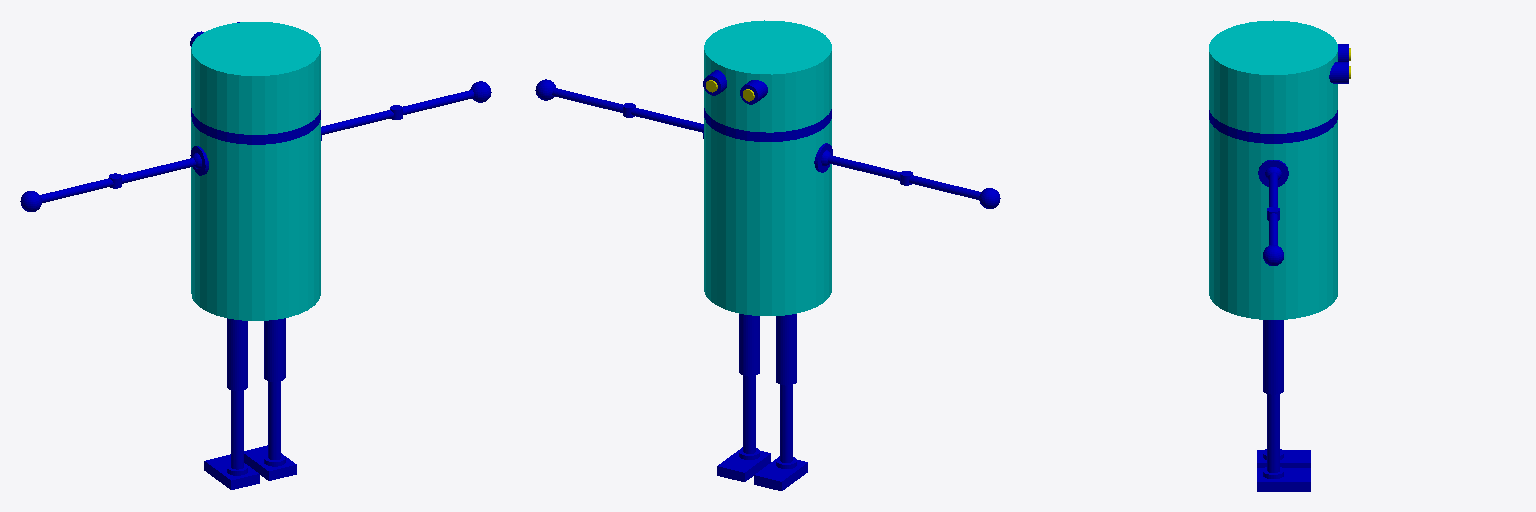
URDF robot description (tom):
<?xml version="1.0"?>
<robot name="tom">

    <material name="red">
        <color rgba="0.8 0 0 1"/>
    </material>

    <material name="green">
        <color rgba="0 0.8 0 1"/>
    </material>

    <material name="blue">
        <color rgba="0 0 0.8 1"/>
    </material>

    <material name="cyan">
        <color rgba="0 0.8 0.8 1"/>
    </material>

    <material name="yellow">
        <color rgba="0.8 0.8 0 1"/>
    </material>

    <link name="base_link">
        <visual>
        <origin rpy="0 0 0" xyz="0 0 0"/>
        <geometry>
            <box size="0.01 0.01 0.01"/>
        </geometry>
        <material name="red"/>
        </visual>
    </link>

<!--Torso, Head and Eyes parts-->

    <link name="torso_link">
        <visual>
            <origin rpy="0 0 0" xyz="0 0 0"/>
            <geometry>
                <cylinder radius="0.03" length="0.09"/>
            </geometry>
            <material name="cyan"/>
        </visual>
    </link>

    <joint name="fixed_joint" type="fixed">
        <parent link="base_link"/>
        <child link="torso_link"/>
        <origin xyz="0 0 0" rpy="0 0 0"/>
    </joint>

    <link name="head_base_link">
        <visual>
            <origin rpy="0 0 0" xyz="0 0 0"/>
            <geometry>
                <cylinder radius="0.03" length="0.005"/>
            </geometry>
            <material name="blue"/>
        </visual>
    </link>

    <joint name="head_base_joint" type="fixed">
        <parent link="torso_link"/>
        <child link="head_base_link"/>
        <origin xyz="0 0 0.0475" rpy="0 0 0"/>
    </joint>

    <link name="head_link">
        <visual>
            <origin rpy="0 0 0" xyz="0 0 0"/>
            <geometry>
                <cylinder radius="0.03" length="0.03"/>
            </geometry>
            <material name="cyan"/>
        </visual>
    </link>

    <joint name="head_joint" type="continuous">
        <parent link="head_base_link"/>
        <child link="head_link"/>
        <origin xyz="0 0 0.0175" rpy="0 0 0"/>
        <axis xyz="0 0 1"/>
    </joint>

    <link name="left_eye_link">
        <visual>
            <origin rpy="1.57 0 0" xyz="0 0 0"/>
            <geometry>
                <cylinder radius="0.005" length="0.02"/>
            </geometry>
            <material name="blue"/>
        </visual>
    </link>

    <joint name="left_eye_base_joint" type="fixed">
        <parent link="head_link"/>
        <child link="left_eye_link"/>
        <origin xyz="0.01 0.025 0.007" rpy="0 0 0"/>
    </joint>

    <link name="right_eye_link">
        <visual>
            <origin rpy="1.57 0 0" xyz="0 0 0"/>
            <geometry>
                <cylinder radius="0.005" length="0.02"/>
            </geometry>
            <material name="blue"/>
        </visual>
    </link>

    <joint name="right_eye_base_joint" type="fixed">
        <parent link="head_link"/>
        <child link="right_eye_link"/>
        <origin xyz="-0.01 0.025 0.007" rpy="0 0 0"/>
    </joint>

    <link name="left_eye_monitor_link">
        <visual>
            <origin rpy="1.57 0 0" xyz="0 0 0"/>
            <geometry>
                <cylinder radius="0.003" length="0.02"/>
            </geometry>
            <material name="yellow"/>
        </visual>
    </link>

    <joint name="left_eye_monitor_joint" type="prismatic">
        <parent link="left_eye_link"/>
        <child link="left_eye_monitor_link"/>
        <origin xyz="0 0.001 0" rpy="0 0 0"/>
        <limit lower="0" upper="0.01" effort="0.1" velocity="0.005"/>
        <axis xyz="0 1 0"/>
    </joint>

    <link name="right_eye_monitor_link">
        <visual>
            <origin rpy="1.57 0 0" xyz="0 0 0"/>
            <geometry>
                <cylinder radius="0.003" length="0.02"/>
            </geometry>
            <material name="yellow"/>
        </visual>
    </link>

    <joint name="right_eye_monitor_joint" type="prismatic">
        <parent link="right_eye_link"/>
        <child link="right_eye_monitor_link"/>
        <origin xyz="0 0.001 0" rpy="0 0 0"/>
        <limit lower="0" upper="0.01" effort="0.1" velocity="0.005"/>
        <axis xyz="0 1 0"/>
    </joint>

<!--Arms, Foreamrs and Wrists-->

    <link name="left_arm_base_link">
        <visual>
            <origin rpy="0 1.57 0" xyz="0 0 0"/>
            <geometry>
                <cylinder radius="0.007" length="0.002"/>
            </geometry>
            <material name="blue"/>
        </visual>
    </link>

    <joint name="left_arm_base_joint" type="fixed">
        <parent link="torso_link"/>
        <child link="left_arm_base_link"/>
        <origin xyz="0.03 0 0.03" rpy="0 0 0"/>
    </joint>

    <link name="right_arm_base_link">
        <visual>
            <origin rpy="0 1.57 0" xyz="0 0 0"/>
            <geometry>
                <cylinder radius="0.007" length="0.002"/>
            </geometry>
            <material name="blue"/>
        </visual>
    </link>

    <joint name="right_arm_base_joint" type="fixed">
        <parent link="torso_link"/>
        <child link="right_arm_base_link"/>
        <origin xyz="-0.03 0 0.03" rpy="0 0 3.14"/>
    </joint>

    <link name="left_arm_ball_link">
        <visual>
            <origin rpy="0 0 0" xyz="0 0 0"/>
            <geometry>
                <sphere radius="0.004"/>
            </geometry>
            <material name="blue"/>
        </visual>
    </link> 

    <joint name="left_arm_ball_joint" type="revolute">
        <parent link="left_arm_base_link"/>
        <child link="left_arm_ball_link"/>
        <origin xyz="0 0 0" rpy="0 0 0"/>
        <limit lower="-1" upper="1" effort="0.1" velocity="0.005"/>
        <axis xyz="1 0 0"/>
    </joint>

    <link name="left_arm_link">
        <visual>
            <origin rpy="0 1.57 0" xyz="0.0225 0 0"/>
            <geometry>
                <cylinder radius="0.002" length="0.045"/>
            </geometry>
            <material name="blue"/>
        </visual>
    </link>

    <joint name="left_arm_joint" type="revolute">
        <parent link="left_arm_ball_link"/>
        <child link="left_arm_link"/>
        <origin xyz="0 0 0" rpy="0 0 0"/>
        <limit lower="-1" upper="1.3" effort="0.1" velocity="0.005"/>
        <axis xyz="0 1 0"/>
    </joint>

    <link name="right_arm_ball_link">
        <visual>
            <origin rpy="0 0 0" xyz="0 0 0"/>
            <geometry>
                <sphere radius="0.004"/>
            </geometry>
            <material name="blue"/>
        </visual>
    </link> 

    <joint name="right_arm_ball_joint" type="revolute">
        <parent link="right_arm_base_link"/>
        <child link="right_arm_ball_link"/>
        <origin xyz="0 0 0" rpy="0 0 0"/>
        <limit lower="-1" upper="1" effort="0.1" velocity="0.005"/>
        <axis xyz="1 0 0"/>
    </joint>

    <link name="right_arm_link">
        <visual>
            <origin rpy="0 1.57 0" xyz="0.0225 0 0"/>
            <geometry>
                <cylinder radius="0.002" length="0.045"/>
            </geometry>
            <material name="blue"/>
        </visual>
    </link>

    <joint name="right_arm_joint" type="revolute">
        <parent link="right_arm_ball_link"/>
        <child link="right_arm_link"/>
        <origin xyz="0 0 0" rpy="0 0 0"/>
        <limit lower="-1" upper="1.3" effort="0.1" velocity="0.005"/>
        <axis xyz="0 1 0"/>
    </joint>

    <link name="left_forearm_base_link">
        <visual>
            <origin rpy="0 0 0" xyz="0 0 0"/>
            <geometry>
                <cylinder radius="0.003" length="0.005"/>
            </geometry>
            <material name="blue"/>
        </visual>
    </link>

    <joint name="left_forearm_base_joint" type="fixed">
        <parent link="left_arm_link"/>
        <child link="left_forearm_base_link"/>
        <origin xyz="0.045 0 0" rpy="0 0 0"/>
    </joint>

    <link name="right_forearm_base_link">
        <visual>
            <origin rpy="0 0 0" xyz="0 0 0"/>
            <geometry>
                <cylinder radius="0.003" length="0.005"/>
            </geometry>
            <material name="blue"/>
        </visual>
    </link>

    <joint name="right_forearm_base_joint" type="fixed">
        <parent link="right_arm_link"/>
        <child link="right_forearm_base_link"/>
        <origin xyz="0.045 0 0" rpy="0 0 0"/>
    </joint>


    <link name="left_forearm_link">
        <visual>
            <origin rpy="0 1.57 0" xyz="0.0225 0 0"/>
            <geometry>
                <cylinder radius="0.002" length="0.045"/>
            </geometry>
            <material name="blue"/>
        </visual>
    </link>

    <joint name="left_frearm_joint" type="revolute">
        <parent link="left_forearm_base_link"/>
        <child link="left_forearm_link"/>
        <origin xyz="0 0 0" rpy="0 0 0"/>
        <limit lower="0" upper="2" effort="0.1" velocity="0.005"/>
        <axis xyz="0 0 1"/>
    </joint>

    <link name="right_forearm_link">
        <visual>
            <origin rpy="0 1.57 0" xyz="0.0225 0 0"/>
            <geometry>
                <cylinder radius="0.002" length="0.045"/>
            </geometry>
            <material name="blue"/>
        </visual>
    </link>

    <joint name="right_forearm_joint" type="revolute">
        <parent link="right_forearm_base_link"/>
        <child link="right_forearm_link"/>
        <origin xyz="0 0 0" rpy="3.14 0 0"/>
        <limit lower="0" upper="2" effort="0.1" velocity="0.005"/>
        <axis xyz="0 0 1"/>
    </joint>

    <link name="left_wrist_base_link">
        <visual>
            <origin rpy="0 0 0" xyz="0 0 0"/>
            <geometry>
                <sphere radius="0.005"/>
            </geometry>
            <material name="blue"/>
        </visual>
    </link>

    <joint name="left_wrist_base_joint" type="fixed">
        <parent link="left_forearm_link"/>
        <child link="left_wrist_base_link"/>
        <origin xyz="0.045 0 0" rpy="0 0 0"/>
    </joint>

    <link name="right_wrist_base_link">
        <visual>
            <origin rpy="0 0 0" xyz="0 0 0"/>
            <geometry>
                <sphere radius="0.005"/>
            </geometry>
            <material name="blue"/>
        </visual>
    </link>

    <joint name="right_wrist_base_joint" type="fixed">
        <parent link="right_forearm_link"/>
        <child link="right_wrist_base_link"/>
        <origin xyz="0.045 0 0" rpy="0 0 0"/>
    </joint>

<!--Legs-->

    <link name="left_leg_base_link">
        <visual>
            <origin rpy="0 0 0" xyz="0 0 0"/>
            <geometry>
                <cylinder radius="0.007" length="0.002"/>
            </geometry>
            <material name="blue"/>
        </visual>
    </link>

    <joint name="left_leg_base_joint" type="fixed">
        <parent link="torso_link"/>
        <child link="left_leg_base_link"/>
        <origin xyz="0.01 0 -0.045" rpy="0 0 0"/>
    </joint>

    <link name="right_leg_base_link">
        <visual>
            <origin rpy="0 0 0" xyz="0 0 0"/>
            <geometry>
                <cylinder radius="0.007" length="0.002"/>
            </geometry>
            <material name="blue"/>
        </visual>
    </link>

    <joint name="right_leg_base_joint" type="fixed">
        <parent link="torso_link"/>
        <child link="right_leg_base_link"/>
        <origin xyz="-0.01 0 -0.045" rpy="0 0 0"/>
    </joint>

    <link name="left_leg_link">
        <visual>
            <origin rpy="0 0 0" xyz="0 0 -0.0225"/>
            <geometry>
                <cylinder radius="0.005" length="0.045"/>
            </geometry>
            <material name="blue"/>
        </visual>
    </link>

    <joint name="left_leg_joint" type="fixed">
        <parent link="left_leg_base_link"/>
        <child link="left_leg_link"/>
        <origin xyz="0 0 0" rpy="0 0 0"/>
    </joint>

    <link name="right_leg_link">
        <visual>
            <origin rpy="0 0 0" xyz="0 0 -0.0225"/>
            <geometry>
                <cylinder radius="0.005" length="0.045"/>
            </geometry>
            <material name="blue"/>
        </visual>
    </link>

    <joint name="right_leg_joint" type="fixed">
        <parent link="right_leg_base_link"/>
        <child link="right_leg_link"/>
        <origin xyz="0 0 0" rpy="0 0 0"/>
    </joint>

    <link name="left_knee_link">
        <visual>
            <origin rpy="0 0 0" xyz="0 0 -0.02"/>
            <geometry>
                <cylinder radius="0.003" length="0.045"/>
            </geometry>
            <material name="blue"/>
        </visual>
    </link>

    <joint name="left_knee_joint" type="prismatic">
        <parent link="left_leg_link"/>
        <child link="left_knee_link"/>
        <origin xyz="0 0 -0.045" rpy="0 0 0"/>
        <limit lower="0" upper="0.03" effort="0.1" velocity="0.005"/>
        <axis xyz="0 0 1"/>
    </joint>

    <link name="right_knee_link">
        <visual>
            <origin rpy="0 0 0" xyz="0 0 -0.02"/>
            <geometry>
                <cylinder radius="0.003" length="0.045"/>
            </geometry>
            <material name="blue"/>
        </visual>
    </link>

    <joint name="right_knee_joint" type="prismatic">
        <parent link="right_leg_link"/>
        <child link="right_knee_link"/>
        <origin xyz="0 0 -0.045" rpy="0 0 0"/>
        <limit lower="0" upper="0.03" effort="0.1" velocity="0.005"/>
        <axis xyz="0 0 1"/>
    </joint>

    <link name="left_foot_base_link">
        <visual>
            <origin rpy="0 0 0" xyz="0 0 0"/>
            <geometry>
                <cylinder radius="0.005" length="0.003"/>
            </geometry>
            <material name="blue"/>
        </visual>
    </link>

    <joint name="left_foot_base_joint" type="fixed">
        <parent link="left_knee_link"/>
        <child link="left_foot_base_link"/>
        <origin xyz="0 0 -0.0425" rpy="0 0 0"/>
    </joint>

    <link name="right_foot_base_link">
        <visual>
            <origin rpy="0 0 0" xyz="0 0 0"/>
            <geometry>
                <cylinder radius="0.005" length="0.003"/>
            </geometry>
            <material name="blue"/>
        </visual>
    </link>

    <joint name="right_foot_base_joint" type="fixed">
        <parent link="right_knee_link"/>
        <child link="right_foot_base_link"/>
        <origin xyz="0 0 -0.0425" rpy="0 0 0"/>
    </joint>

    <link name="left_foot_link">
        <visual>
            <origin rpy="0 0 0" xyz="0 0.005 0"/>
            <geometry>
                <box size="0.015 0.025 0.005"/>
            </geometry>
            <material name="blue"/>
        </visual>
    </link>

    <joint name="left_foot_joint" type="fixed">
        <parent link="left_foot_base_link"/>
        <child link="left_foot_link"/>
        <origin xyz="0 0 -0.00325" rpy="0 0 0"/>
    </joint>

    <link name="right_foot_link">
        <visual>
            <origin rpy="0 0 0" xyz="0 0.005 0"/>
            <geometry>
                <box size="0.015 0.025 0.005"/>
            </geometry>
            <material name="blue"/>
        </visual>
    </link>

    <joint name="right_foot_joint" type="fixed">
        <parent link="right_foot_base_link"/>
        <child link="right_foot_link"/>
        <origin xyz="0 0 -0.00325" rpy="0 0 0"/>
    </joint>

</robot>

--- What the picture shows (computed from the rendered views, not written in the file) ---
The picture shows the robot from 3 angles, left to right: view 1: azimuth 30°, elevation 25°; view 2: azimuth 150°, elevation 25°; view 3: azimuth 270°, elevation 25°; orthographic projection.
Model tom with 30 links and 29 joints (6 revolute, 1 continuous, 4 prismatic, 18 fixed), rooted at base_link, posed all joints at 0.
Links seen in each view (by area): view 1: torso_link, head_link, right_leg_link, left_leg_link, head_base_link, right_knee_link, left_knee_link, right_foot_link, left_foot_link, right_arm_link, left_arm_link, right_forearm_link (+1 smaller); view 2: torso_link, head_link, right_leg_link, left_leg_link, head_base_link, right_foot_link, left_foot_link, right_knee_link, left_knee_link, right_arm_link, left_arm_link, left_forearm_link (+1 smaller); view 3: torso_link, head_link, left_leg_link, head_base_link, left_foot_link, left_knee_link, right_foot_link.
Boxes of the visible links, x1,y1,x2,y2 form: torso_link: [191, 117, 320, 320]; head_link: [191, 22, 320, 134]; right_leg_link: [227, 318, 247, 390]; left_leg_link: [264, 318, 285, 381]; head_base_link: [191, 108, 320, 144]; right_knee_link: [231, 390, 243, 469]; left_knee_link: [268, 381, 280, 459]; right_foot_link: [204, 454, 259, 489]; left_foot_link: [244, 445, 296, 480]; right_arm_link: [122, 158, 195, 183]; left_arm_link: [321, 110, 393, 134]; right_forearm_link: [40, 178, 113, 202]; torso_link: [704, 118, 831, 315]; head_link: [704, 20, 831, 132]; right_leg_link: [776, 314, 796, 385]; left_leg_link: [739, 314, 759, 376]; head_base_link: [704, 108, 831, 141]; right_foot_link: [754, 456, 807, 490]; left_foot_link: [717, 447, 770, 481]; right_knee_link: [780, 385, 792, 462]; left_knee_link: [743, 376, 755, 453]; right_arm_link: [828, 155, 900, 180]; left_arm_link: [631, 108, 703, 132]; left_forearm_link: [552, 88, 622, 112]; torso_link: [1209, 120, 1337, 319]; head_link: [1209, 20, 1337, 133]; left_leg_link: [1263, 320, 1283, 394]; head_base_link: [1209, 110, 1337, 143]; left_foot_link: [1257, 468, 1310, 491]; left_knee_link: [1267, 394, 1279, 472]; right_foot_link: [1257, 450, 1310, 467].
Size in the robot's own frame: 0.25 by 0.066 by 0.2182 metres.
Geometry: primitives only (box / cylinder / sphere), no mesh files.
